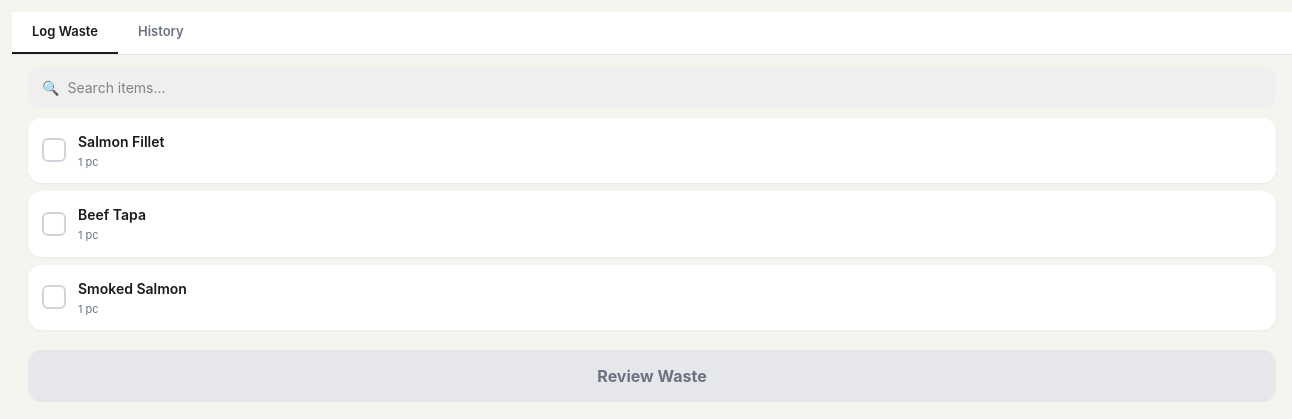
Test case: WasteContent item selection › stepper + increments qty
Click the element with test id "item-row-Salmon Fillet" at (652, 150), box [28,118,1276,183]
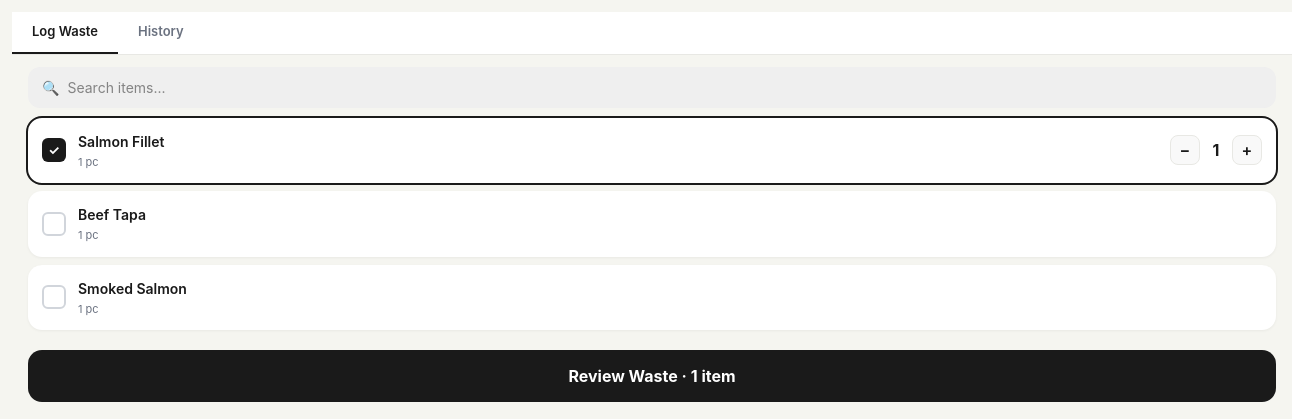
Click the button with test id "inc-Salmon Fillet" at (1247, 150), box [1232,135,1262,165]
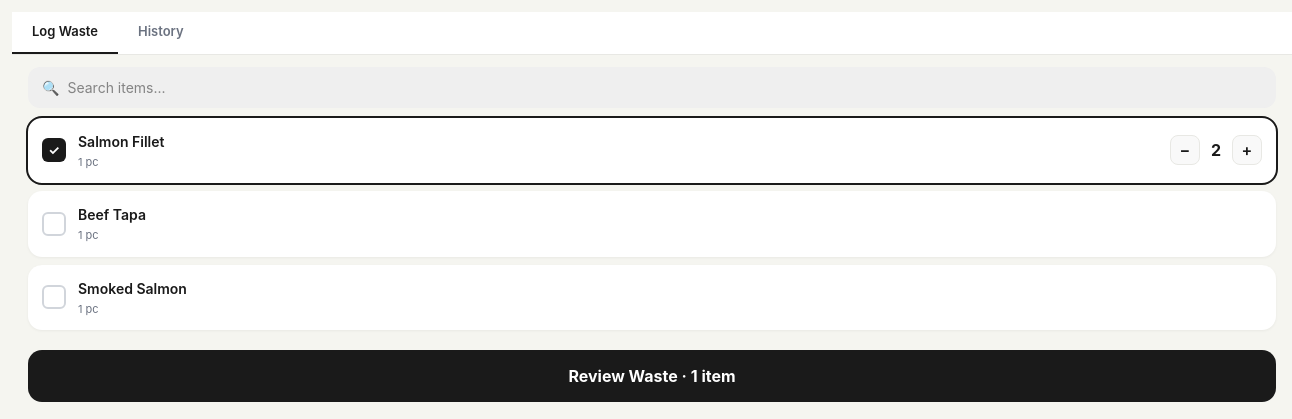
Now the text with test id "qty-Salmon Fillet" reads "2", box [1211,140,1221,160]
